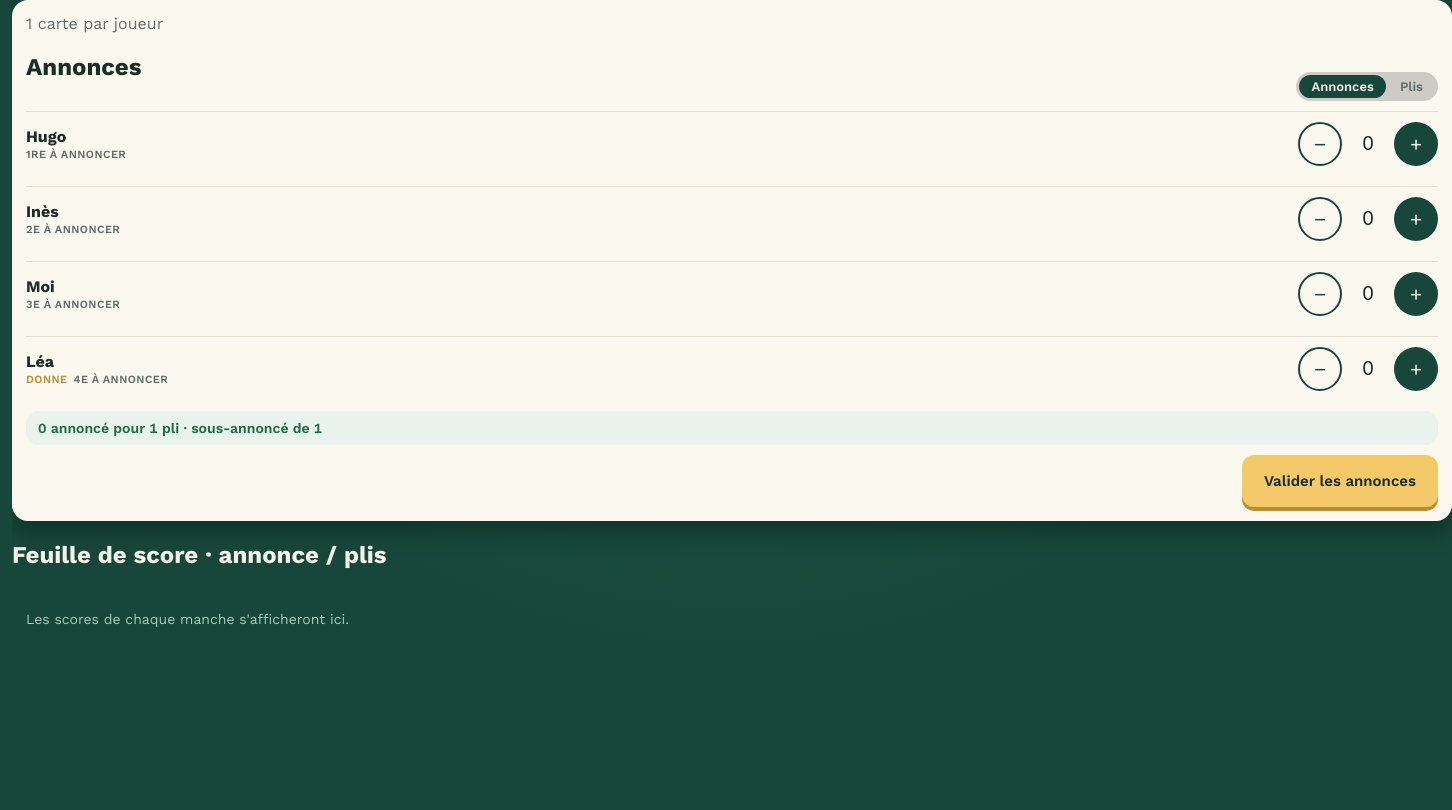
Test case: FeuilleWizard › détecte les annonces et les plis excédentaires, et reprend les annonces exactes comme plis
// manche 1 (1 pli) : deux annonces à 1 dépassent le compte
Click the button named "Plus" at (1416, 144), box [1394,122,1438,166]
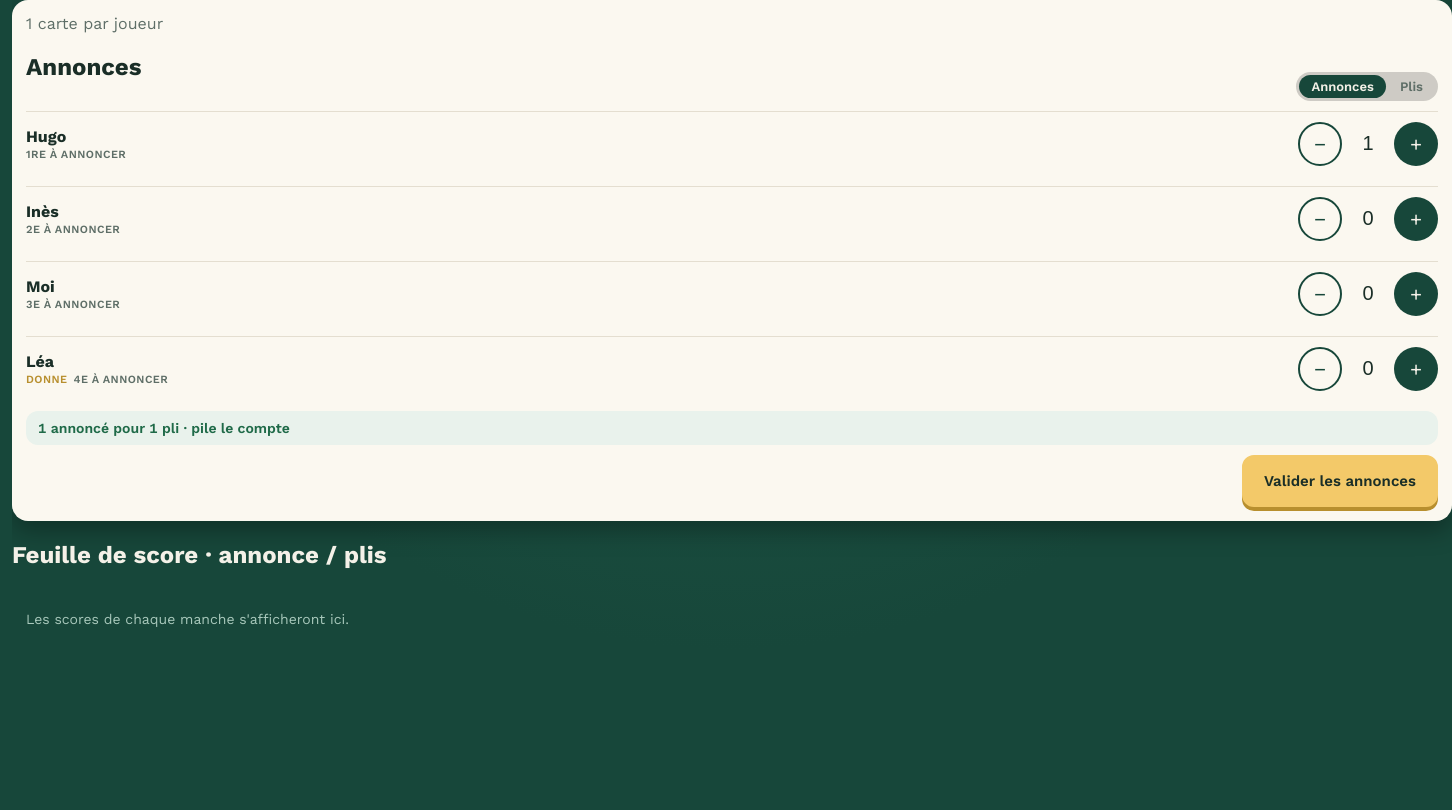
Click the button named "Plus" at (1416, 219), box [1394,197,1438,241]
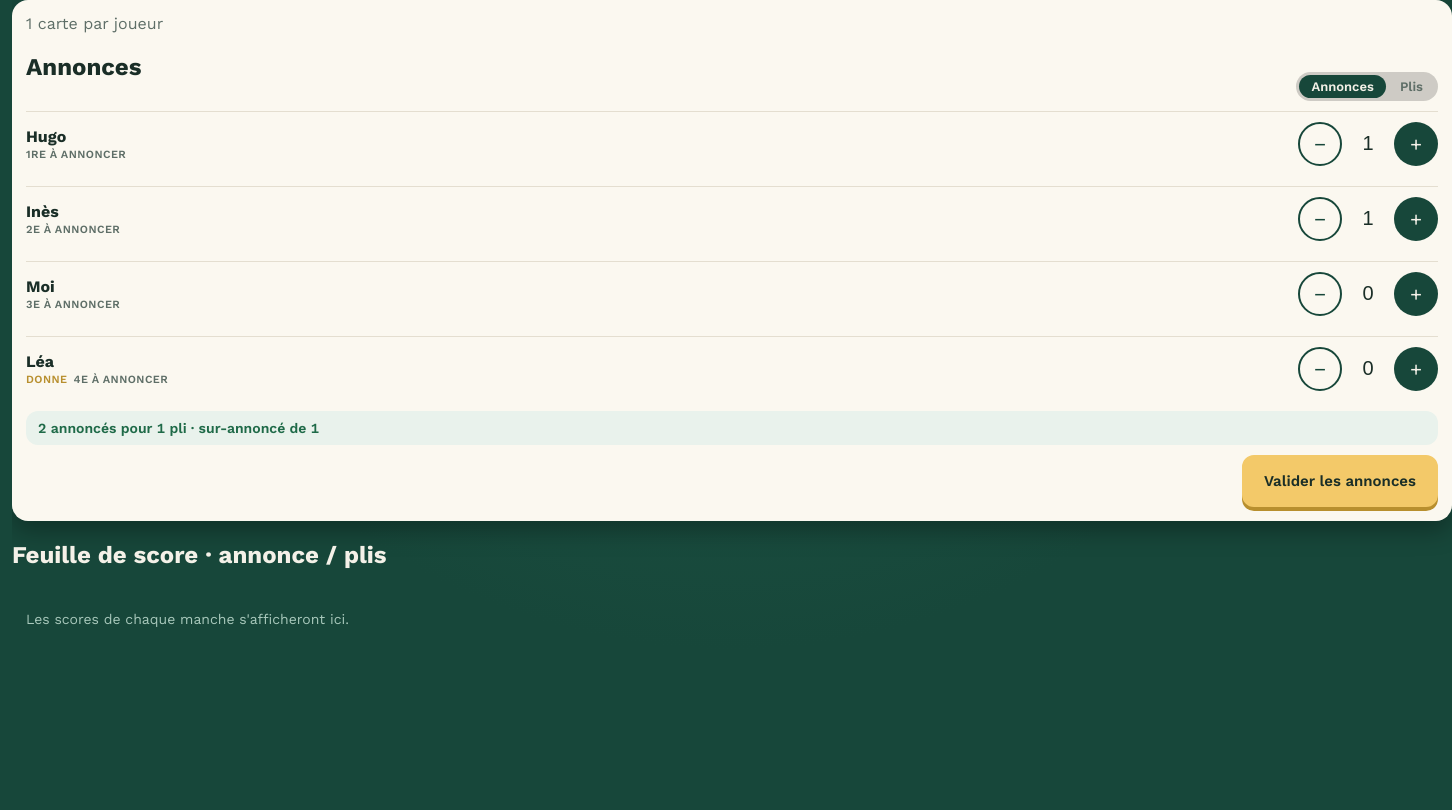
Expected: the text with class "status" shows "sur-annoncé de 1", [38,420,319,436]
// on retombe sur une seule annonce à 1 : le total tombe juste
Click the button named "Moins" at (1320, 219), box [1298,197,1342,241]
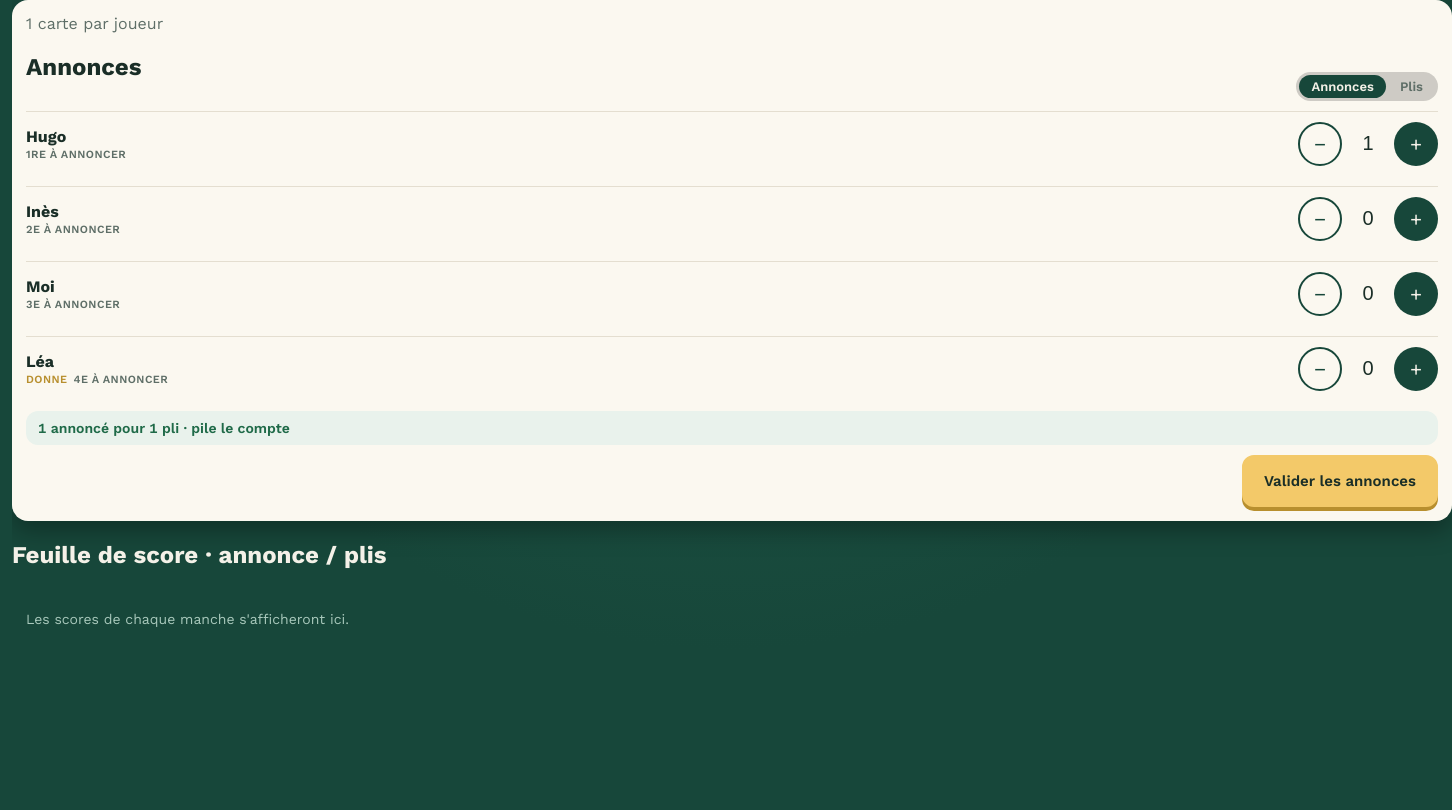
Click the button "Valider les annonces" at (1340, 481), box [1242,455,1438,507]
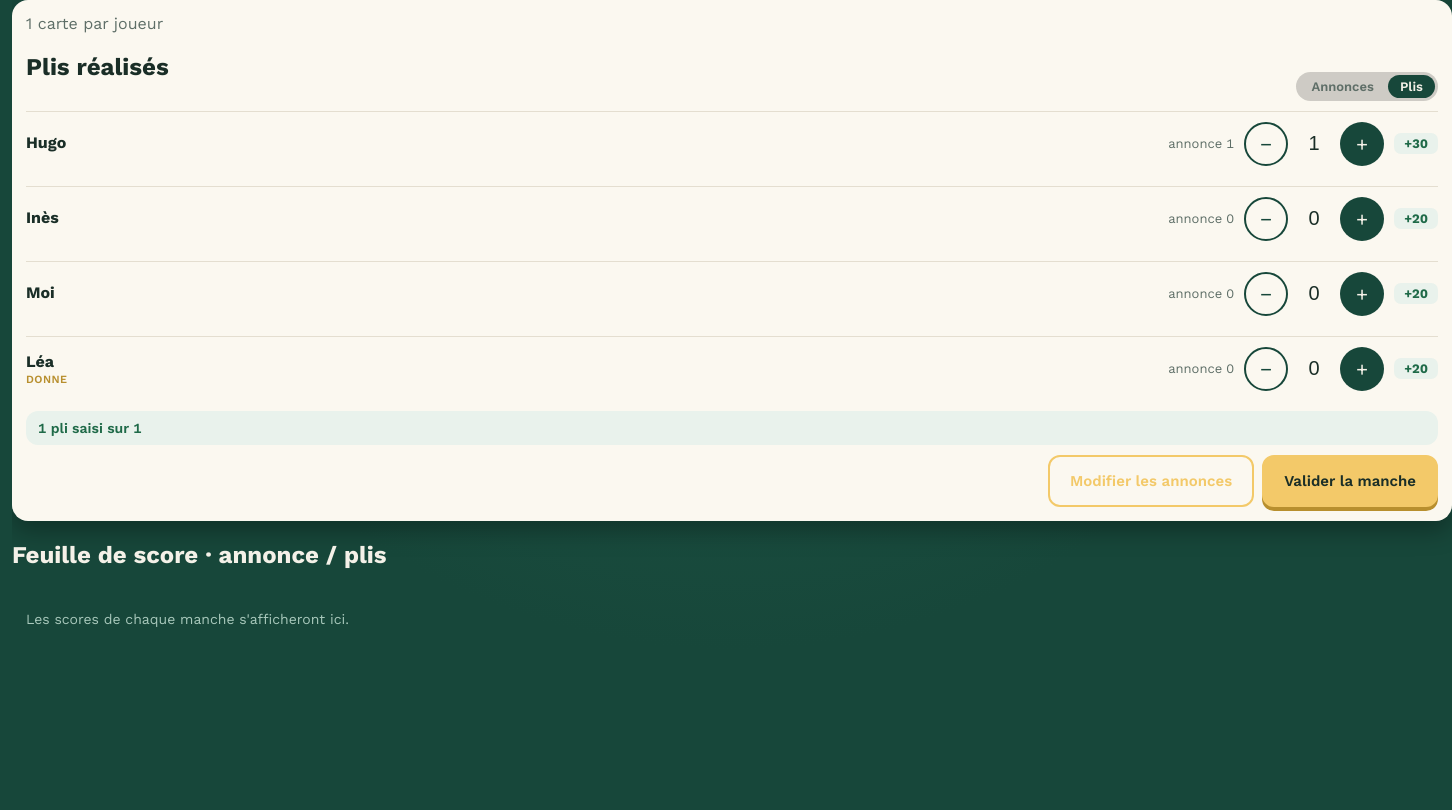
Expected: the text "1" is shown, [1308,132,1320,154]
Click the button named "Plus" at (1362, 219), box [1340,197,1384,241]
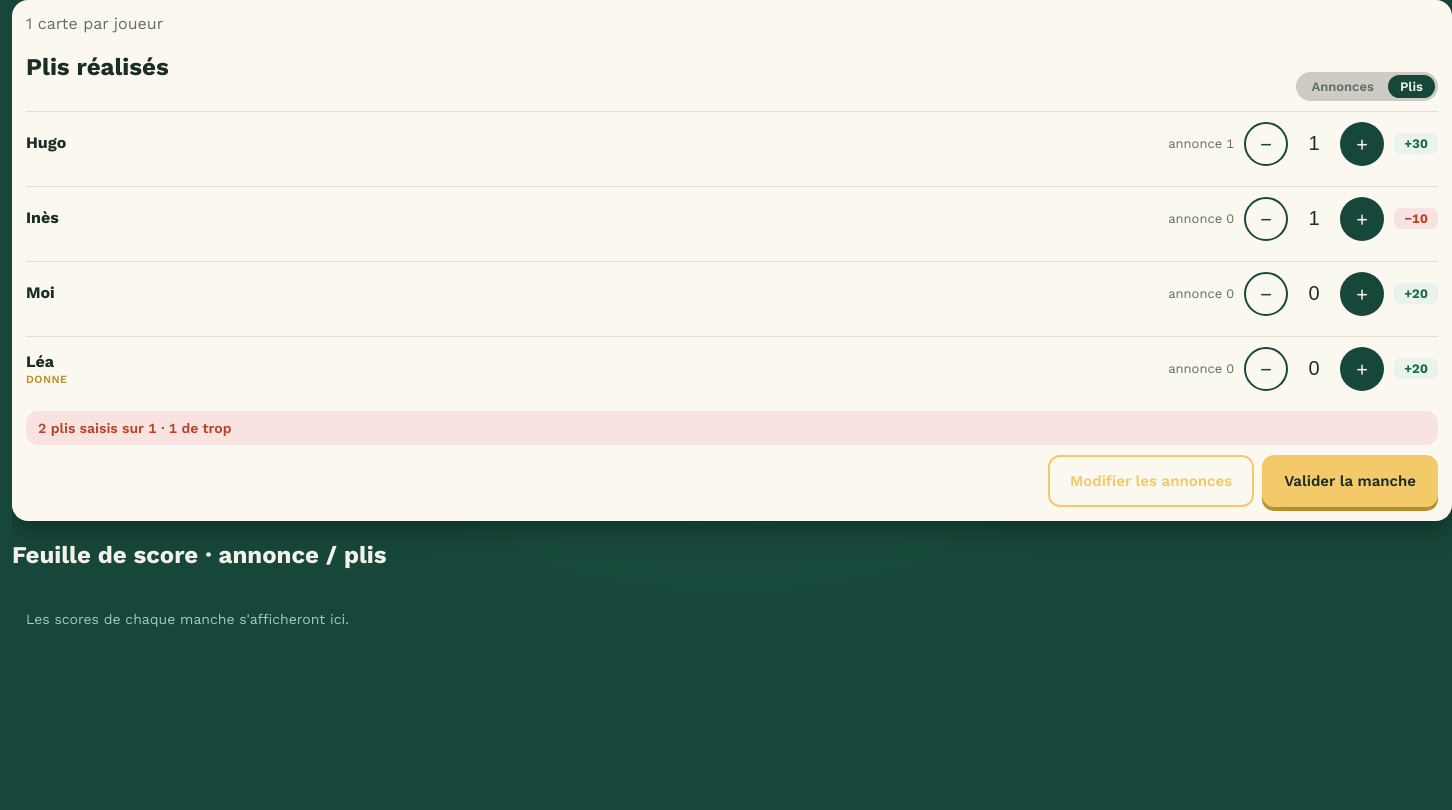
Expected: the text with class "status" shows "de trop", [38,420,232,436]
